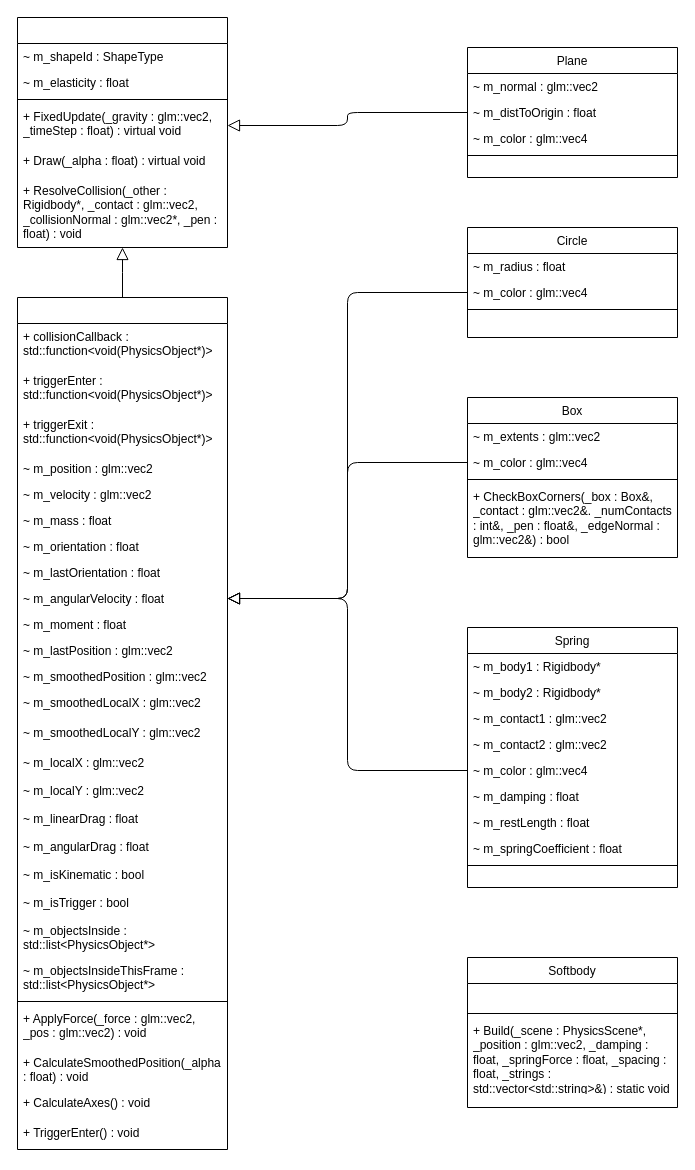
The diagram is 695 pixels wide and 1170 high, and some of its shapes have lost their labels. Here are the shapes that lost their labels. From the top down, the box of each, then its label:
(16, 16, 228, 248): PhysicsObject
(16, 296, 228, 1150): Rigidbody
